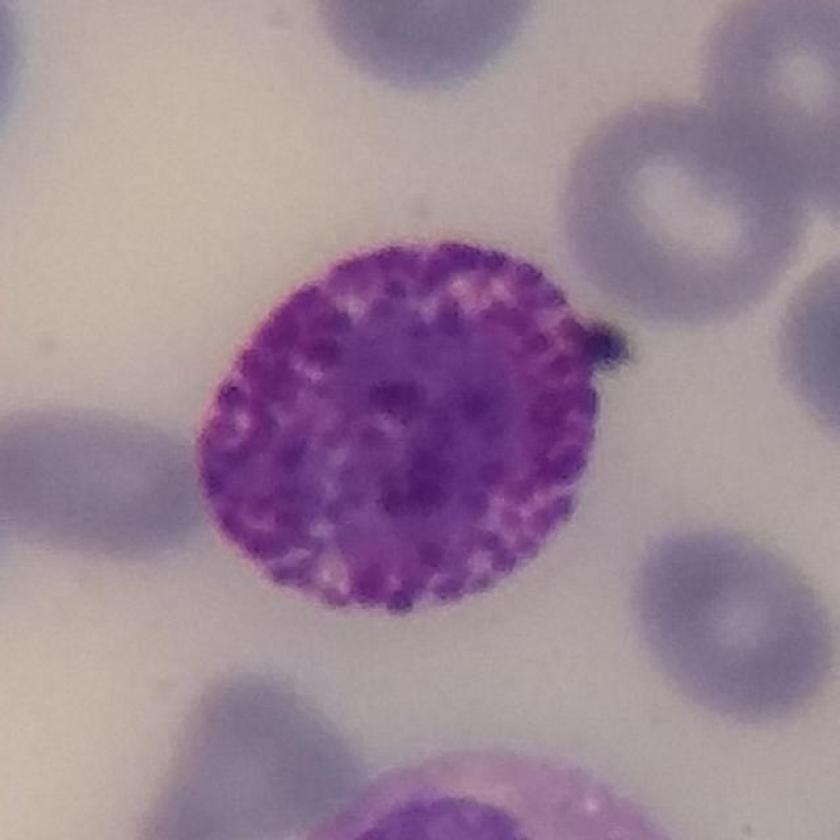basophil: (194, 227, 632, 631)
